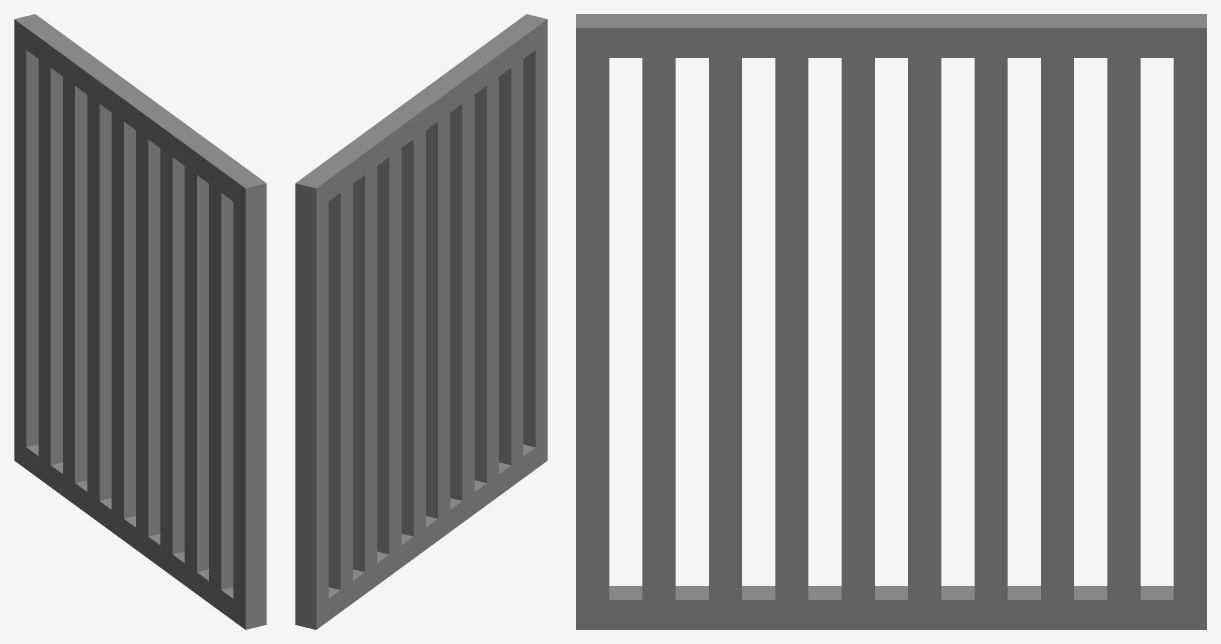
File: Jail Bars.obj
3 renders of one model, left to right at view 1: azimuth 30°, elevation 25°; view 2: azimuth 150°, elevation 25°; view 3: azimuth 270°, elevation 25°, orthographic. The views are drawn at different scales.
Visible parts, largest first — view 1: Jail Bars; view 2: Jail Bars; view 3: Jail Bars.
Boxes of the visible parts, box(x1,y1,x2,y2) form: Jail Bars: box(14, 14, 266, 629); Jail Bars: box(295, 14, 547, 629); Jail Bars: box(576, 14, 1206, 629).
Size of the model in its own units: 1 by 20 by 19.
